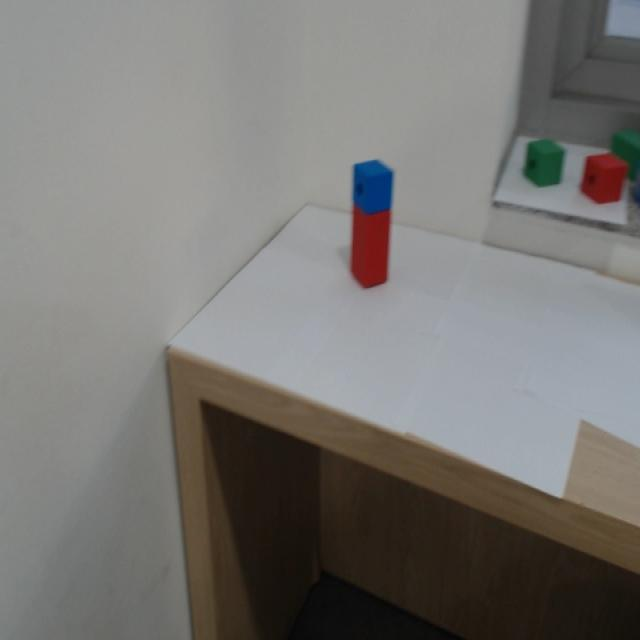cube: (327, 148, 404, 216)
